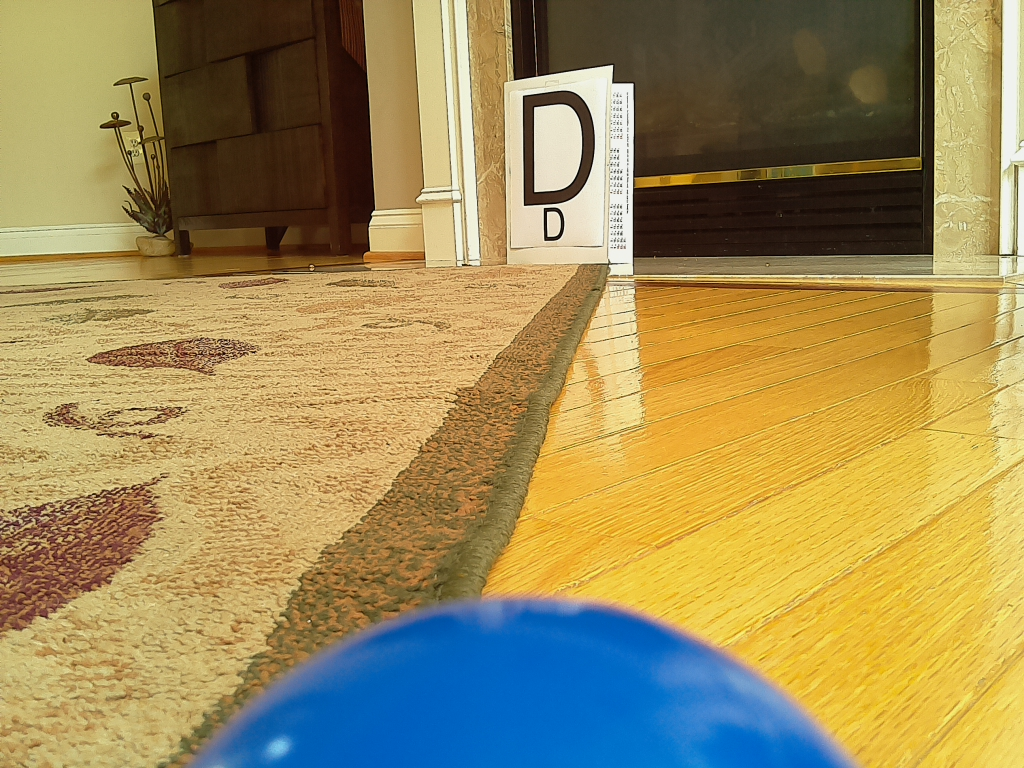letter: (523, 94, 595, 206)
